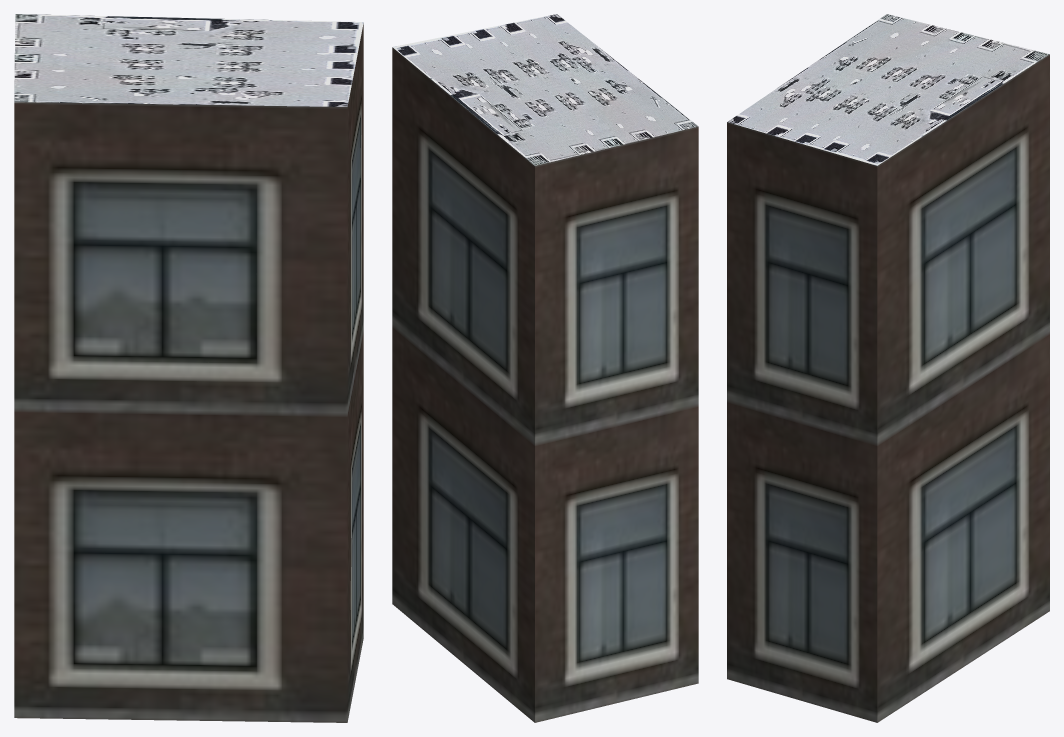
File: ResTex__121.fbx
The picture shows the model from 3 angles, left to right: view 1: azimuth 30°, elevation 25°; view 2: azimuth 150°, elevation 25°; view 3: azimuth 270°, elevation 25°; orthographic projection. The views are drawn at different scales.
Parts seen in each view (by area): view 1: CityEngineMaterial_16_m, CityEngineMaterial_15_m; view 2: CityEngineMaterial_16_m, CityEngineMaterial_15_m; view 3: CityEngineMaterial_16_m, CityEngineMaterial_15_m.
Part boxes in pixels (x1,y1,x2,y2): CityEngineMaterial_16_m: [14, 23, 363, 722]; CityEngineMaterial_15_m: [14, 14, 363, 106]; CityEngineMaterial_16_m: [392, 47, 698, 722]; CityEngineMaterial_15_m: [392, 14, 698, 165]; CityEngineMaterial_16_m: [727, 54, 1049, 722]; CityEngineMaterial_15_m: [727, 14, 1049, 165].
Size of the model in its own units: 3.51 by 6 by 3.15.
2 materials, 2 textured.
